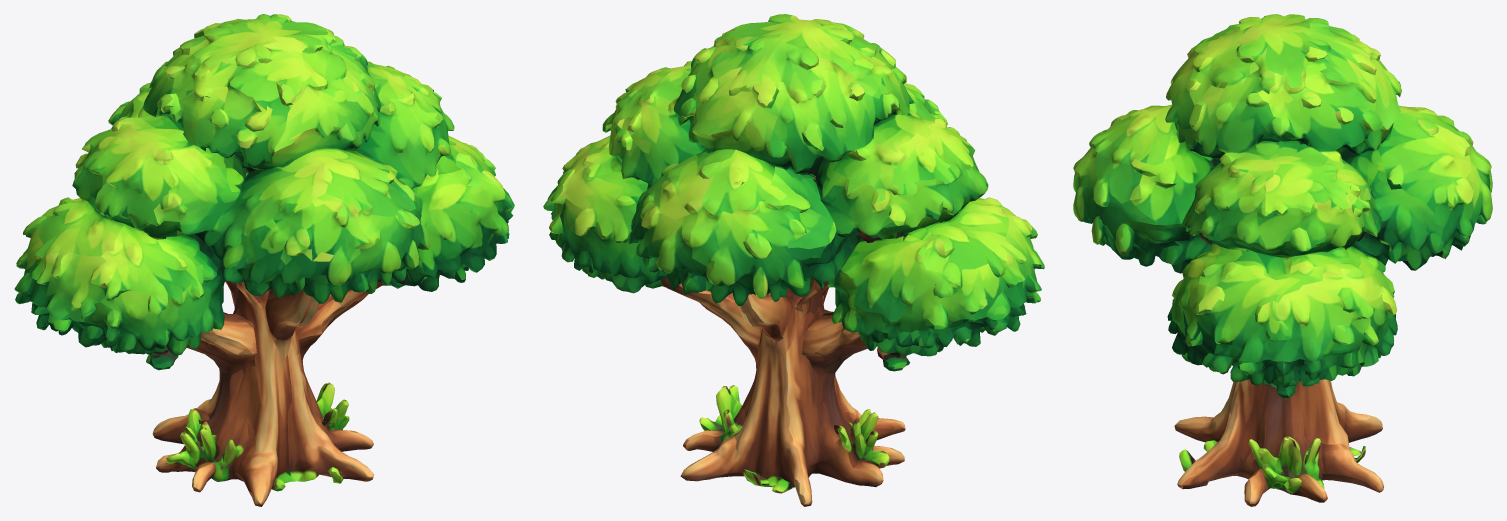
Rendered from FantasyTree.obj.
The picture shows the model from 3 angles, left to right: view 1: azimuth 30°, elevation 25°; view 2: azimuth 150°, elevation 25°; view 3: azimuth 270°, elevation 25°; orthographic projection.
Visible parts, largest first — view 1: FantasyTree; view 2: FantasyTree; view 3: FantasyTree.
Boxes of the visible parts, <box> form: FantasyTree: <box>14,14,514,506</box>; FantasyTree: <box>543,14,1044,506</box>; FantasyTree: <box>1073,14,1492,506</box>.
Size of the model in its own units: 1 by 0.8943 by 0.7797.
1 material, 1 textured.
